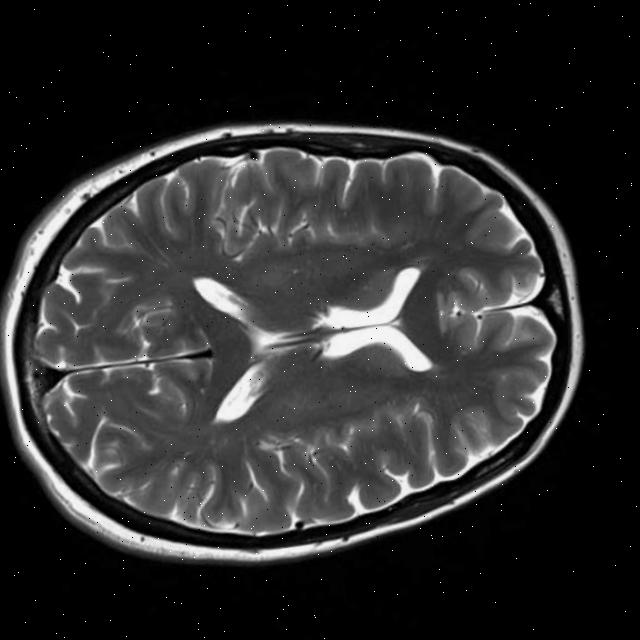NoTumor: (0, 82, 604, 587)
